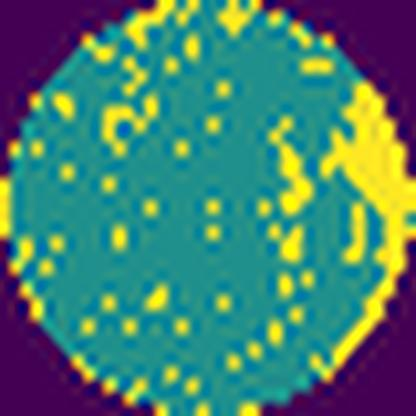Edge-Loc: (311, 82, 415, 378)
